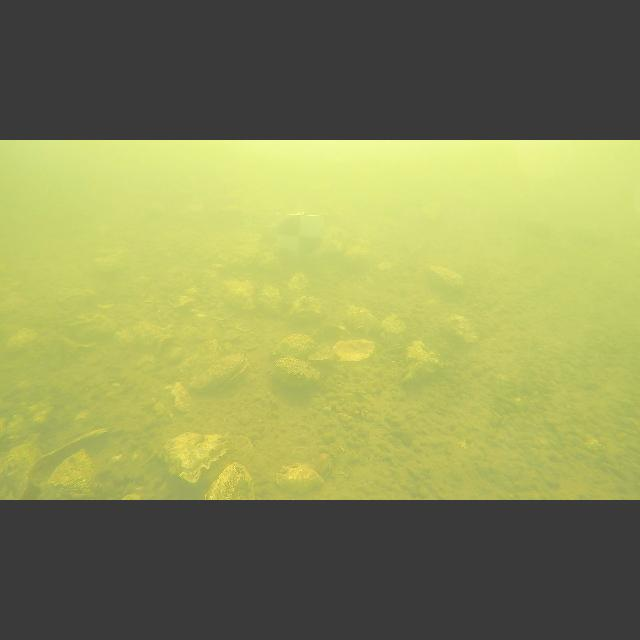Oyster-Closed: (164, 432, 230, 482), (189, 352, 247, 394), (177, 336, 223, 378), (205, 462, 255, 500), (346, 305, 405, 337), (48, 450, 94, 490), (0, 446, 34, 500), (116, 321, 172, 351), (404, 340, 441, 382), (271, 356, 320, 387), (276, 464, 324, 494), (64, 313, 114, 337), (272, 334, 318, 359), (224, 279, 255, 310), (92, 251, 128, 276), (445, 315, 478, 342), (258, 285, 286, 315), (230, 240, 261, 266), (289, 296, 321, 321), (6, 329, 38, 351), (429, 266, 464, 286), (288, 272, 310, 300), (171, 381, 191, 411), (378, 261, 392, 270)
Oyster-Open: (33, 430, 106, 470), (309, 339, 375, 361)
